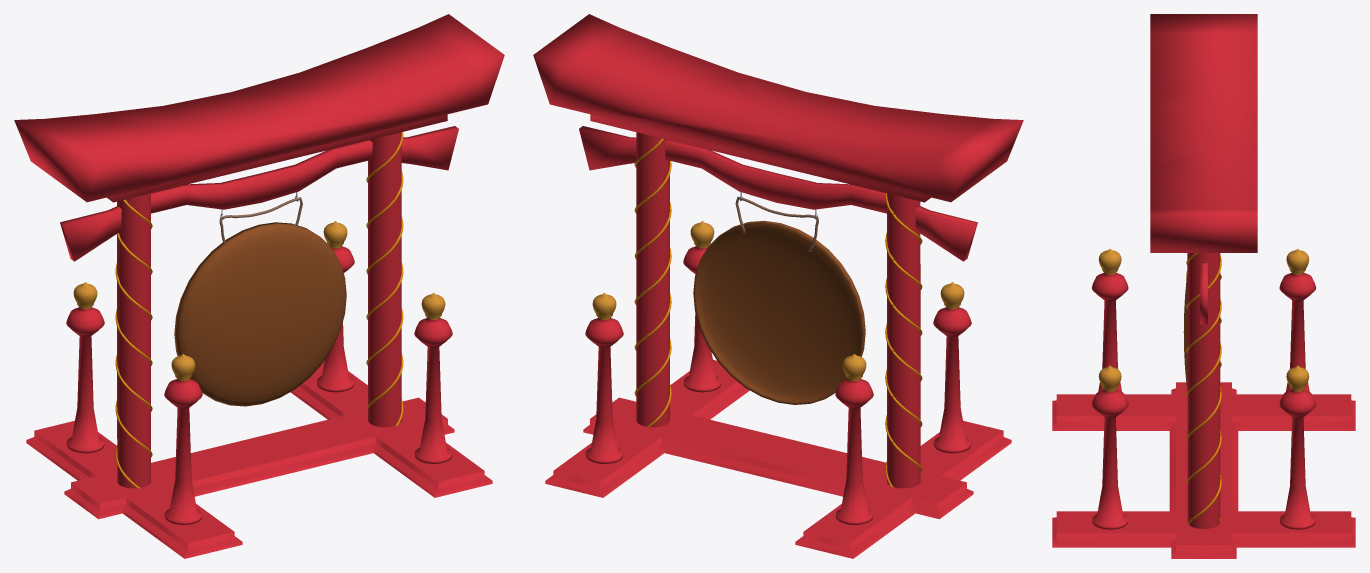
The model's file is SM_Prop_Gong.fbx.
The picture shows the model from 3 angles, left to right: view 1: azimuth 30°, elevation 25°; view 2: azimuth 150°, elevation 25°; view 3: azimuth 270°, elevation 25°; orthographic projection. The views are drawn at different scales.
Visible parts, largest first — view 1: Gong_Cube.008, Sphere, golden_siral_Cylinder.007; view 2: Gong_Cube.008, Sphere, golden_siral_Cylinder.007; view 3: Gong_Cube.008, golden_siral_Cylinder.007.
Part boxes in pixels (box(x1,y1,x2,y2)): Gong_Cube.008: box(14, 14, 504, 558); Sphere: box(174, 192, 346, 406); golden_siral_Cylinder.007: box(115, 132, 403, 488); Gong_Cube.008: box(533, 14, 1023, 558); Sphere: box(693, 192, 865, 404); golden_siral_Cylinder.007: box(634, 138, 922, 486); Gong_Cube.008: box(1052, 14, 1355, 558); golden_siral_Cylinder.007: box(1186, 253, 1221, 524).
Bounding box in the file's own units: 6.4 × 5.29 × 4.04.
